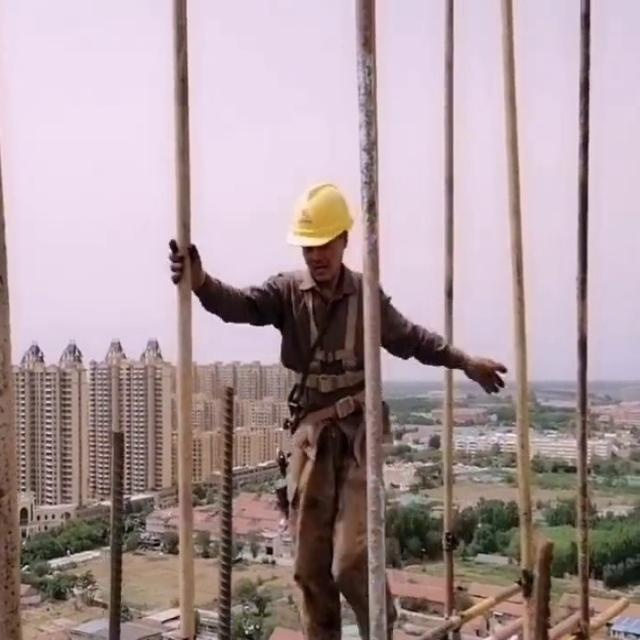Arnes_seguridad: (279, 260, 363, 394)
